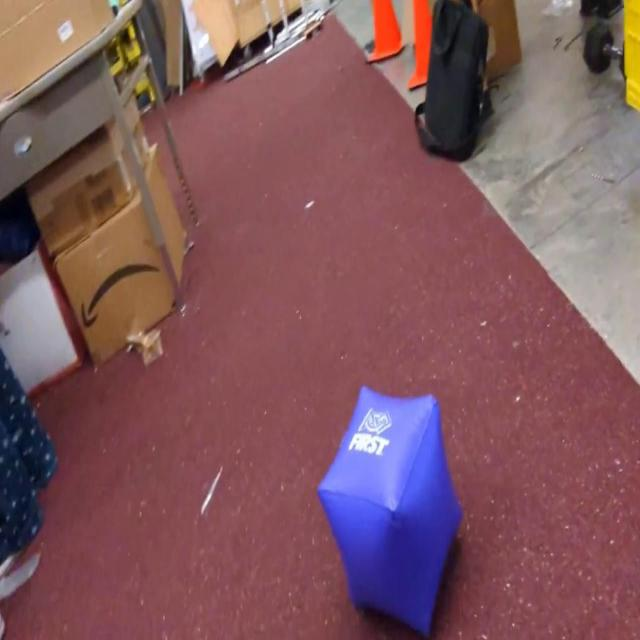frc_cube: (316, 386, 462, 640)
